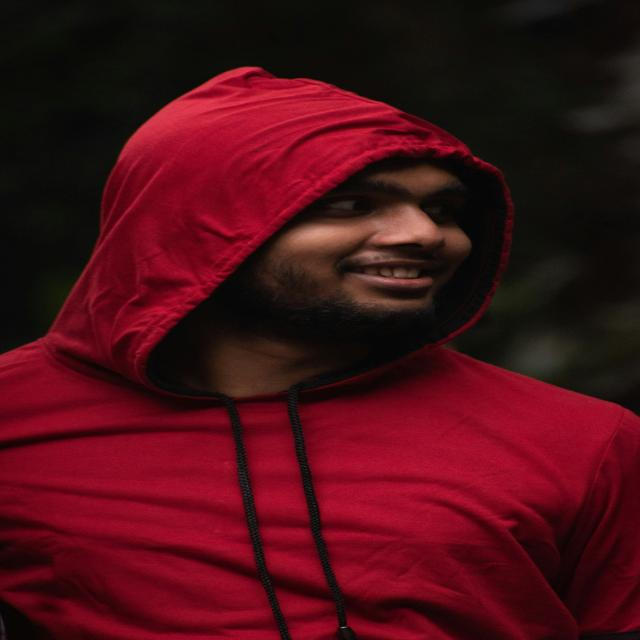4_capucha: (52, 63, 520, 407)
